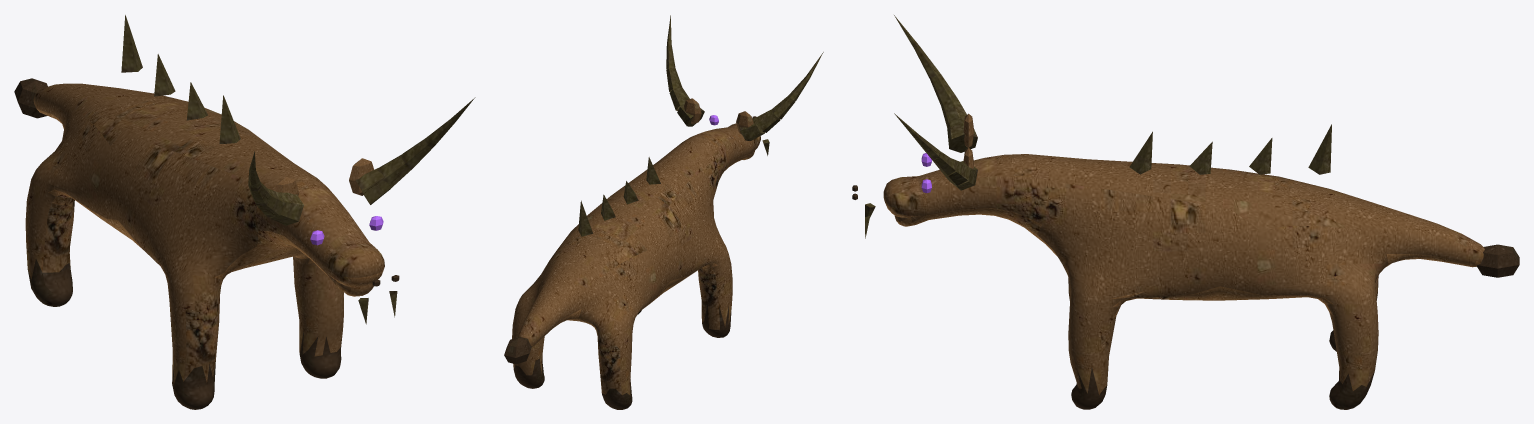
File: mon_quad_04.glb
The picture shows the model from 3 angles, left to right: view 1: azimuth 30°, elevation 25°; view 2: azimuth 150°, elevation 25°; view 3: azimuth 270°, elevation 25°; orthographic projection. The views are drawn at different scales.
Parts seen in each view (by area): view 1: mon_quad_04; view 2: mon_quad_04; view 3: mon_quad_04.
Part boxes in pixels (<box>): mon_quad_04: <box>14,15,475,409</box>; mon_quad_04: <box>504,15,823,409</box>; mon_quad_04: <box>852,15,1519,409</box>.
Bounding box in the file's own units: 0.5526 × 0.8276 × 1.58.
5 materials, 5 textured.
